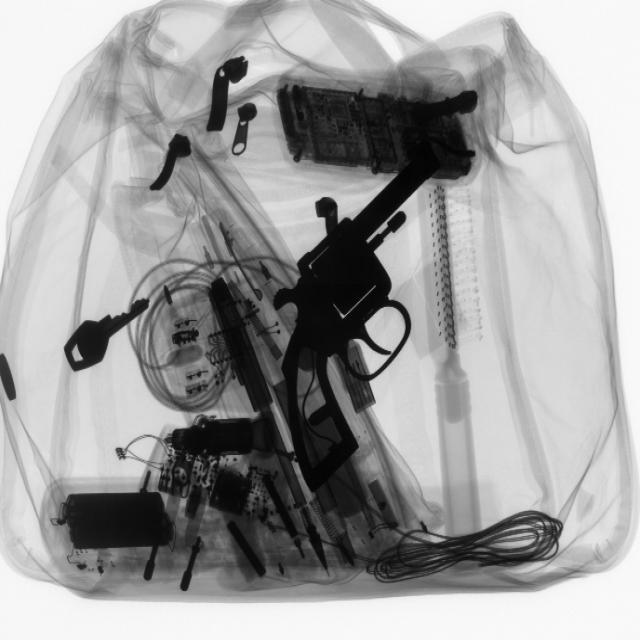GUN: (272, 119, 438, 502)
